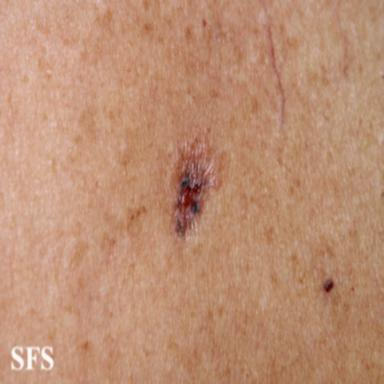basal-cell-carcinoma: (166, 133, 224, 244)
